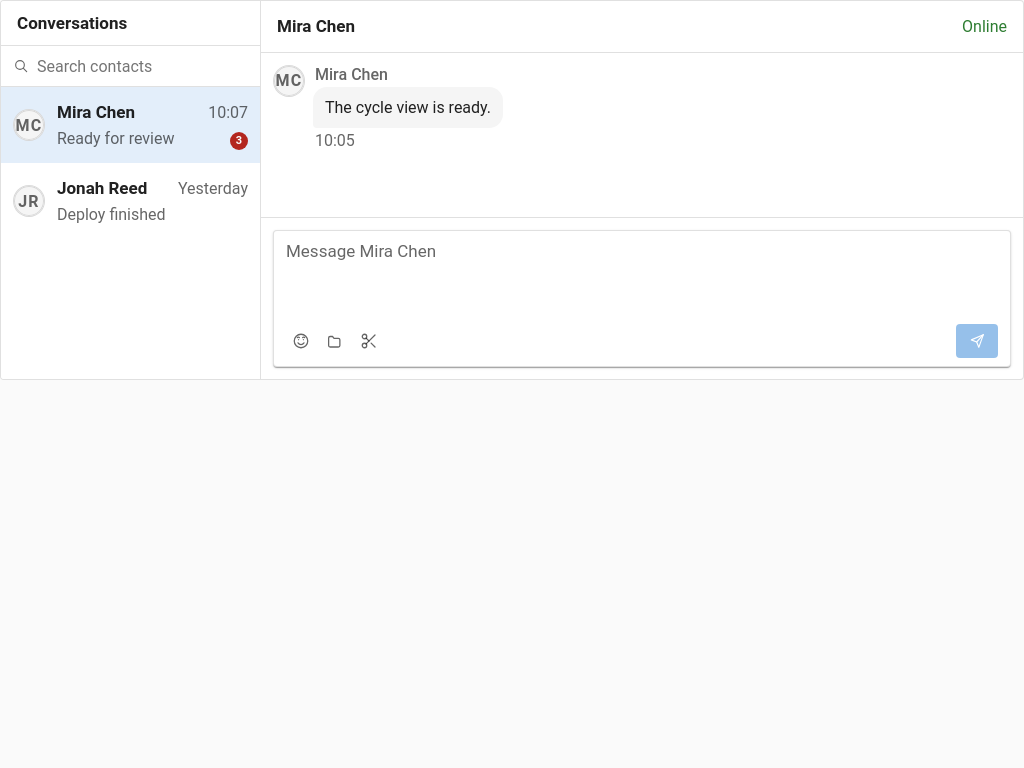
chat conversations › closes the message menu when the outside is pressed
This screenshot has width=1024, height=768.
Right-click the text "The cycle view is ready.": point(408, 108) [325,96,491,119]
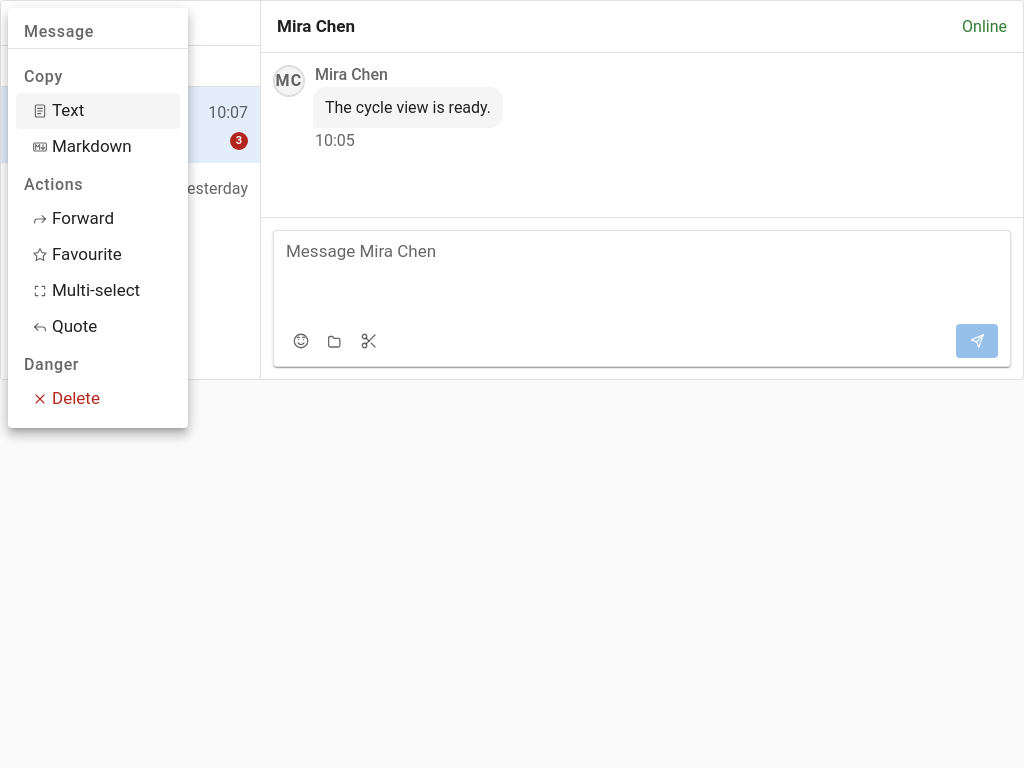
Expected: the menu is shown, [8,8,188,428]
Press the mouse on the element that starts with "Conversations": point(512, 384) [0,0,1023,767]
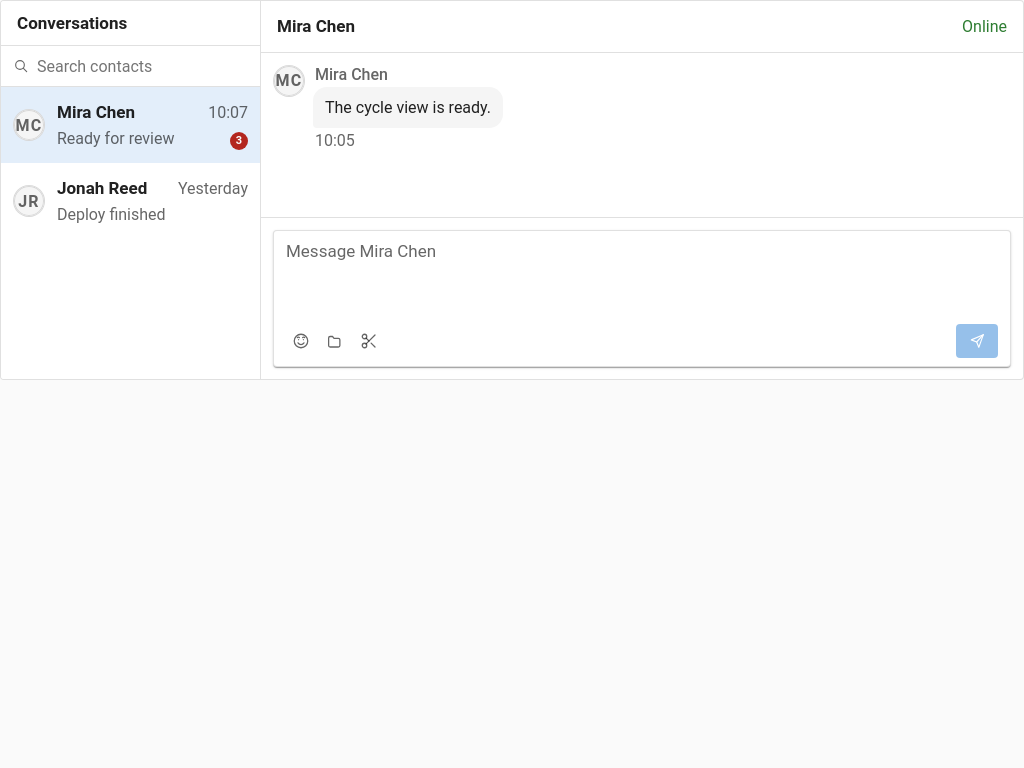
Expected: the menu is gone
